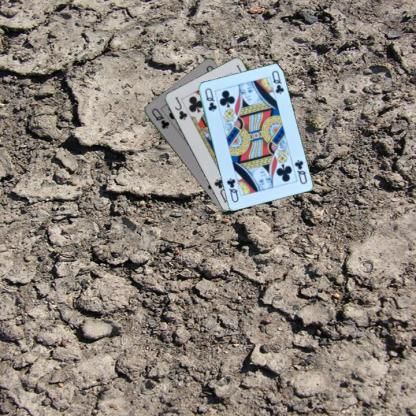Jc: (172, 94, 188, 121)
Qc: (148, 106, 171, 130), (292, 157, 308, 186), (202, 86, 218, 112)
